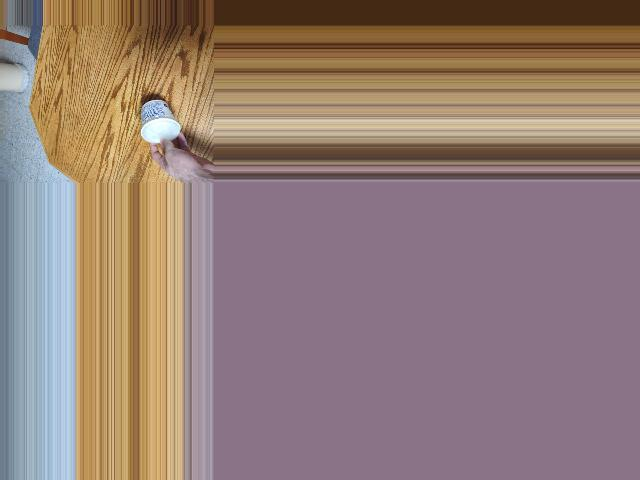cotage: (140, 98, 187, 147)
